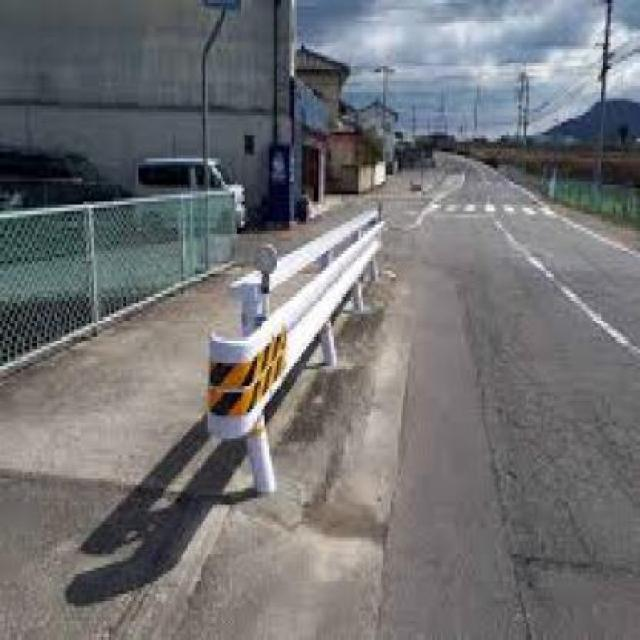Guard rail: (199, 198, 393, 514)
